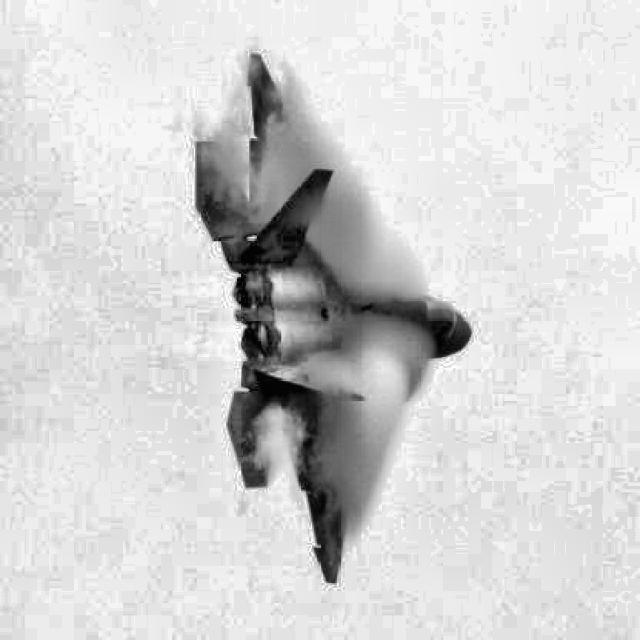F22: (195, 53, 473, 585)
